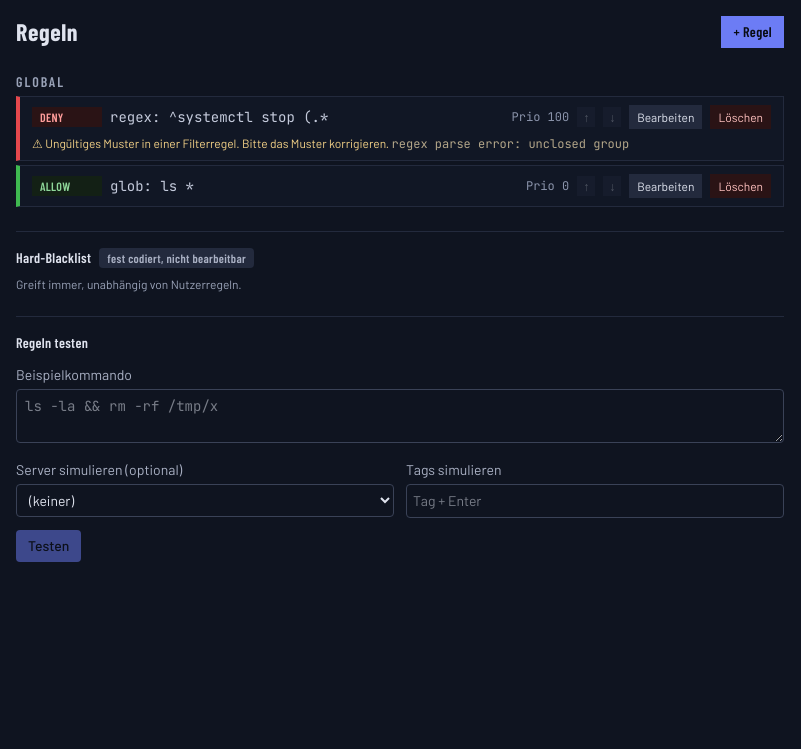
Test case: Testansicht markiert ein ungültiges Muster (Spec 0077, 3.2.3) › zeigt Hinweis und Fehlertext für eine Regel mit patternError neben dem Ergebnis
expect the text "regex: ^systemctl stop (.*" is shown: met, box 110,108 -> 328,126
Type "systemctl stop nginx" into the text box with placeholder "ls -la && rm -rf /tmp/x" at (400, 416), box 16,389 -> 784,443
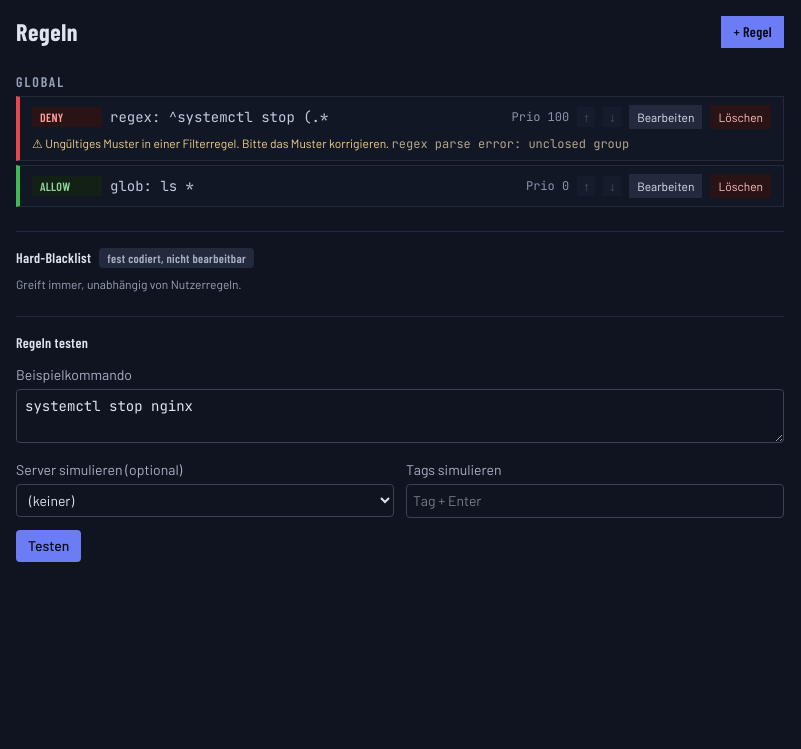
Click the button "Testen" at (49, 546), box 16,530 -> 81,562
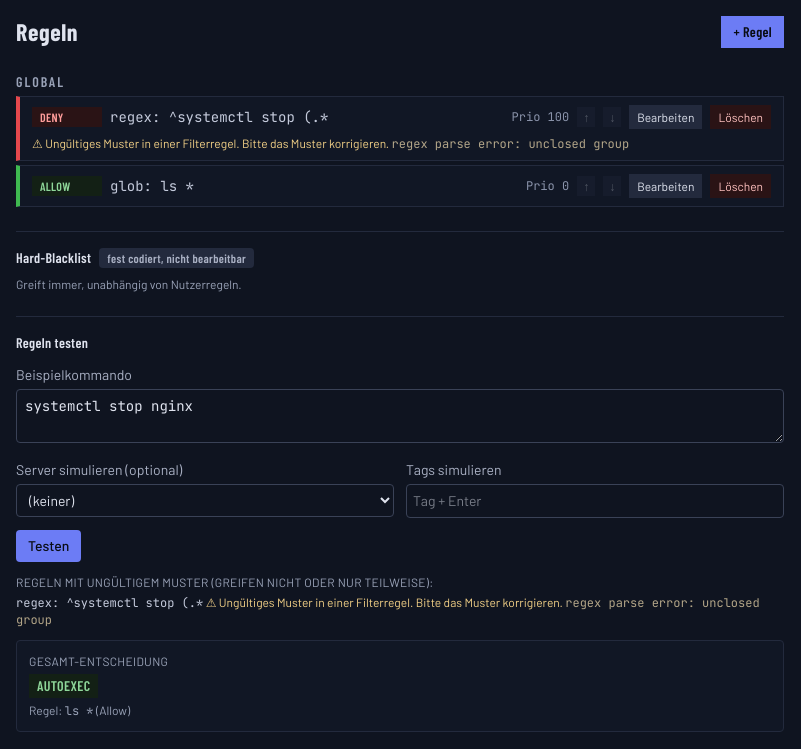
expect the element with test id "test-invalid-pattern-rules" shows "^systemctl stop (.*": met, box 66,595 -> 203,611
expect the element with test id "test-invalid-pattern-rules" shows "Ungültiges Muster in einer Filterregel. Bitte das Muster korrigieren.": met, box 219,595 -> 563,609
expect the element with test id "test-invalid-pattern-rules" shows "regex parse error: unclosed group": met, box 16,595 -> 760,628
